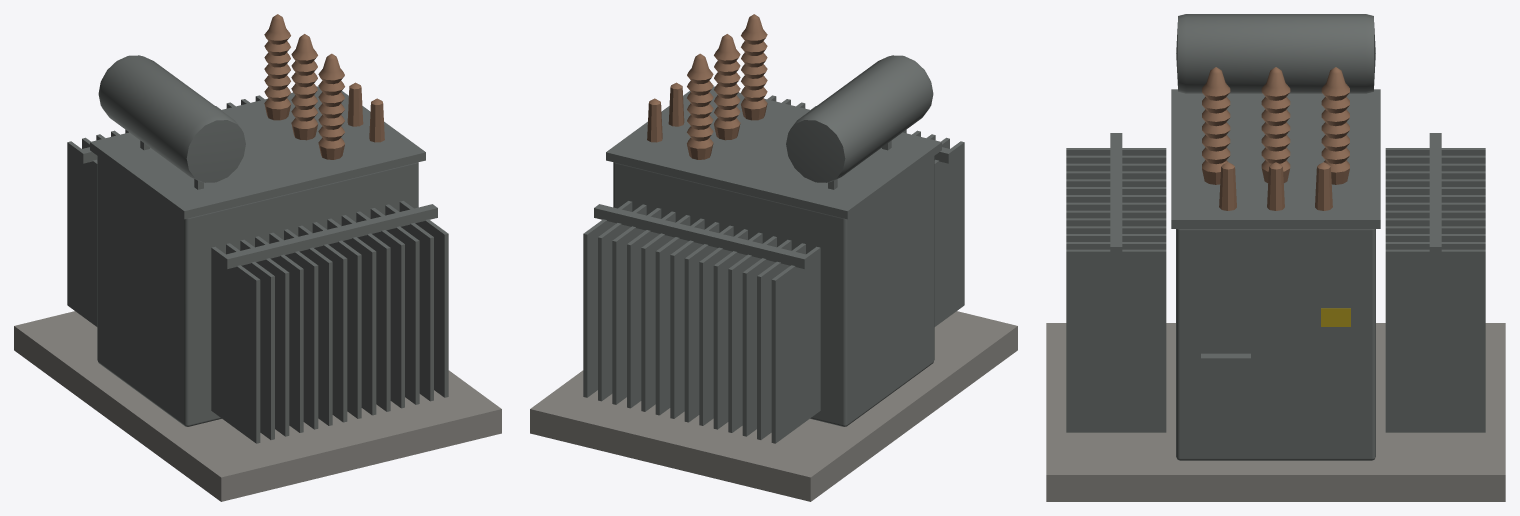
The model's file is SM_Prop_power_transformer_0.glb.
3 renders of one model, left to right at view 1: azimuth 30°, elevation 25°; view 2: azimuth 150°, elevation 25°; view 3: azimuth 270°, elevation 25°, orthographic. The views are drawn at different scales.
Parts seen in each view (by area): view 1: SM_Prop_power_transformer_0; view 2: SM_Prop_power_transformer_0; view 3: SM_Prop_power_transformer_0.
Boxes of the visible parts, bbox=[...] form: SM_Prop_power_transformer_0: bbox=[14, 14, 501, 501]; SM_Prop_power_transformer_0: bbox=[530, 14, 1017, 501]; SM_Prop_power_transformer_0: bbox=[1046, 14, 1505, 501].
Bounding box in the file's own units: 3.6 × 4.25 × 4.6.
